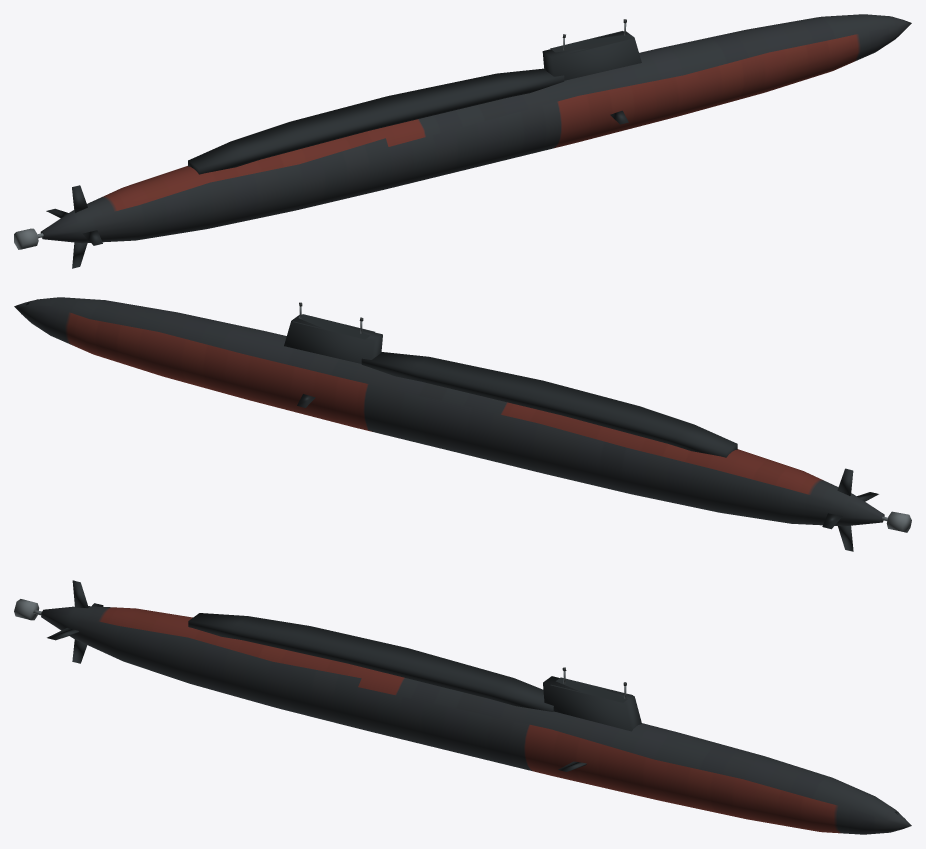
The model's file is RU_SSBN_DeltaIV_LOD3.fbx.
The picture shows the model from 3 angles, top to bottom: view 1: azimuth 30°, elevation 25°; view 2: azimuth 150°, elevation 25°; view 3: azimuth 330°, elevation 25°; orthographic projection.
Parts seen in each view (by area): view 1: RU_SSBN_DeltaIV_LOD3; view 2: RU_SSBN_DeltaIV_LOD3; view 3: RU_SSBN_DeltaIV_LOD3.
Part boxes in pixels (left/top/right/bottom): RU_SSBN_DeltaIV_LOD3: left=14, top=14, right=911, bottom=268; RU_SSBN_DeltaIV_LOD3: left=14, top=297, right=911, bottom=551; RU_SSBN_DeltaIV_LOD3: left=14, top=580, right=911, bottom=834.
Bounding box in the file's own units: 172 × 20.78 × 20.91.
Materials: 6 (1 with a texture image).
